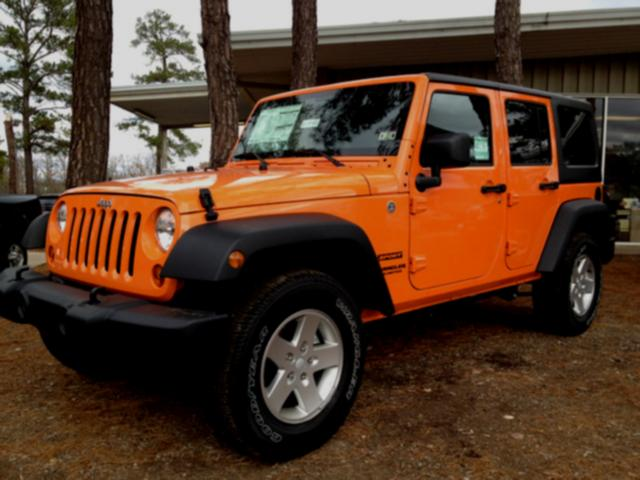jeep: (89, 191, 118, 217)
